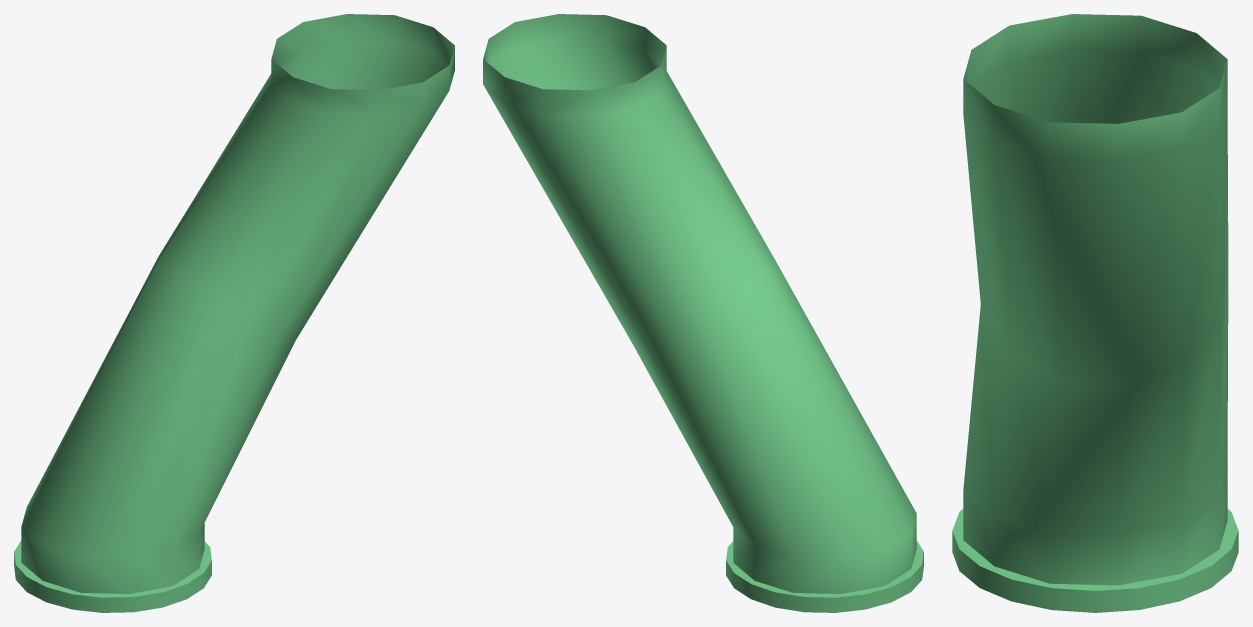
The model's file is Pipe_Thick_Offset.fbx.
3 views of the same model, side by side, from view 1: azimuth 30°, elevation 25°; view 2: azimuth 150°, elevation 25°; view 3: azimuth 270°, elevation 25° (orthographic). The views are drawn at different scales.
Parts seen in each view (by area): view 1: Pipe_Thick_Offset; view 2: Pipe_Thick_Offset; view 3: Pipe_Thick_Offset.
Boxes of the visible parts, x1,y1,x2,y2 form: Pipe_Thick_Offset: [14, 14, 454, 612]; Pipe_Thick_Offset: [483, 14, 923, 612]; Pipe_Thick_Offset: [952, 14, 1238, 612].
Bounding box in the file's own units: 663 × 700 × 275.
